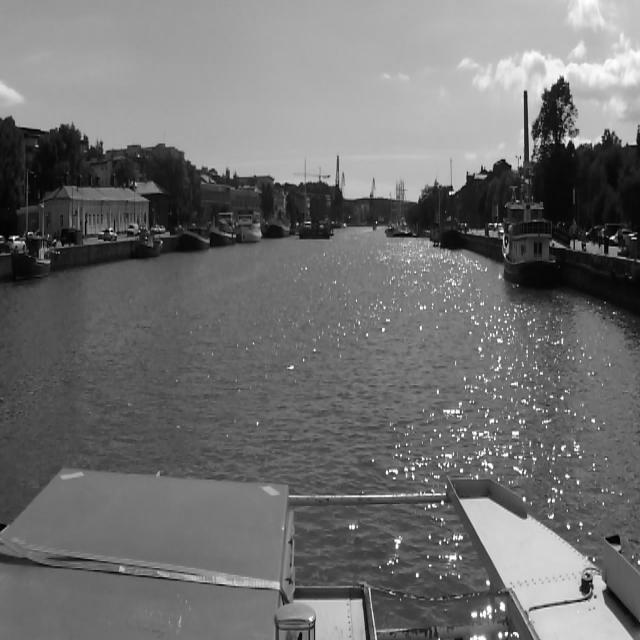ship: (498, 152, 563, 294), (8, 228, 55, 287), (440, 156, 464, 252), (209, 211, 241, 253), (178, 219, 210, 256), (133, 228, 163, 264), (239, 207, 265, 246), (296, 218, 334, 241), (429, 194, 443, 242)
